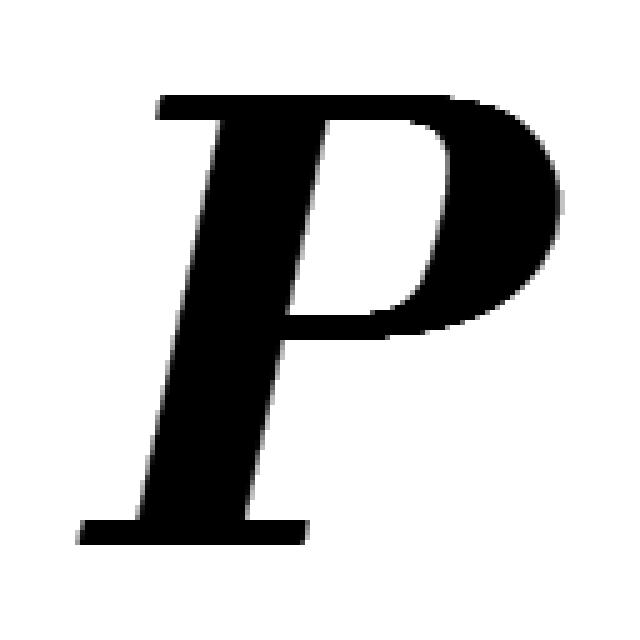P: (75, 95, 560, 545)
